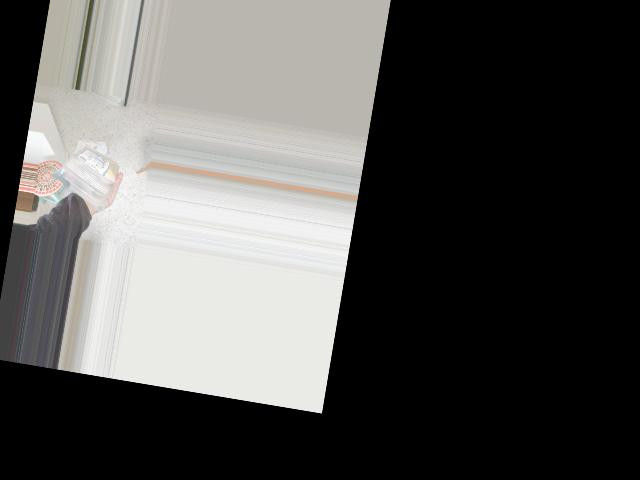cheese: (44, 129, 122, 213)
